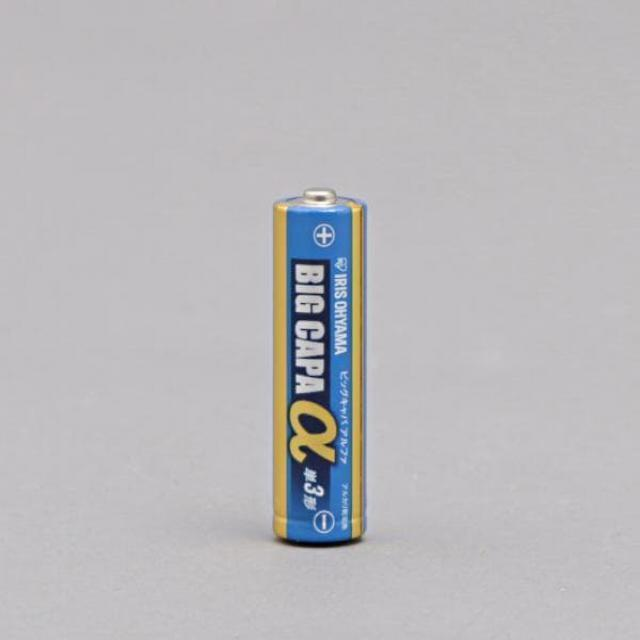Hazard: (272, 188, 370, 548)
